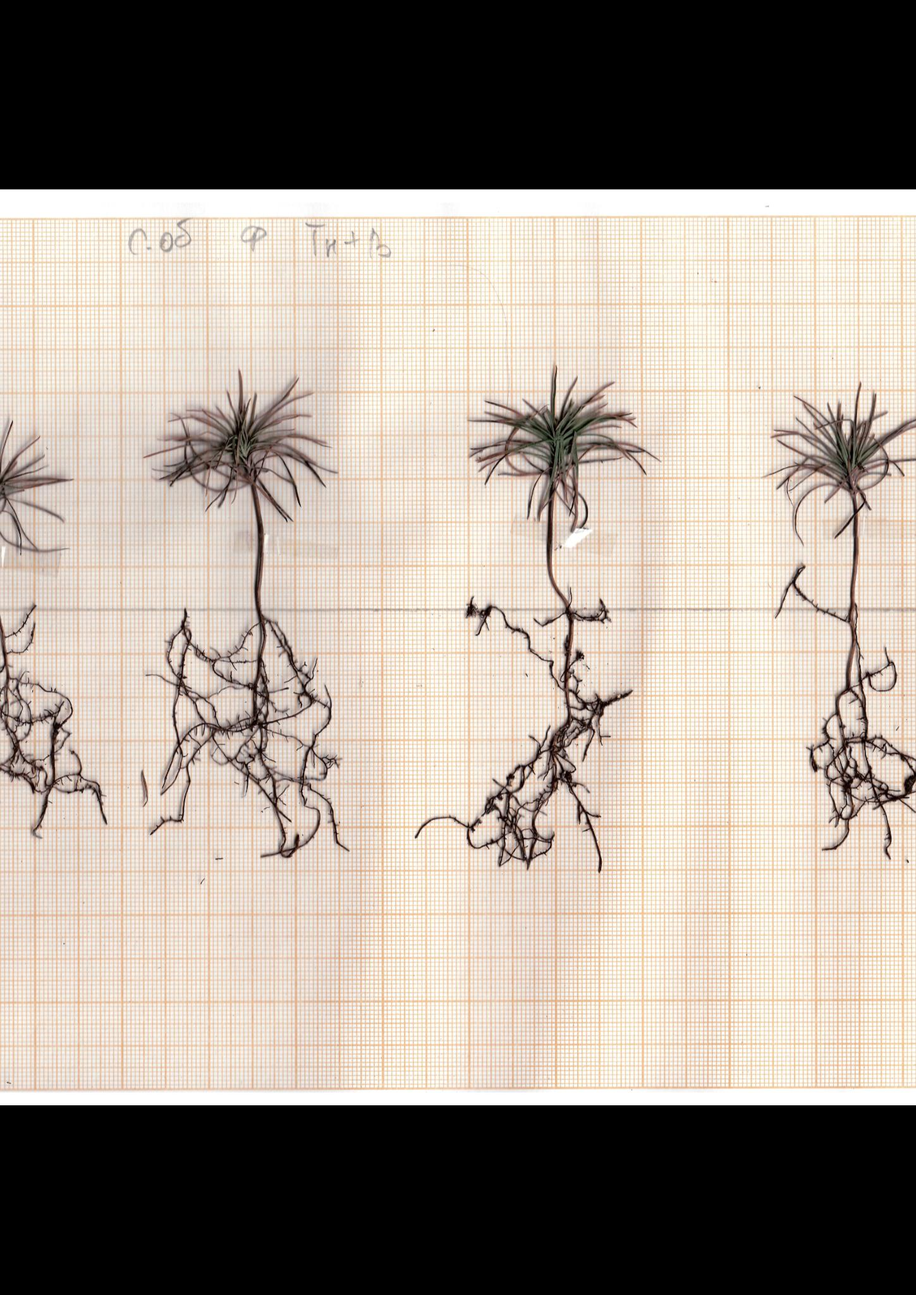cedr: (411, 365, 661, 880), (132, 368, 351, 868), (766, 378, 916, 861), (0, 420, 109, 851)
